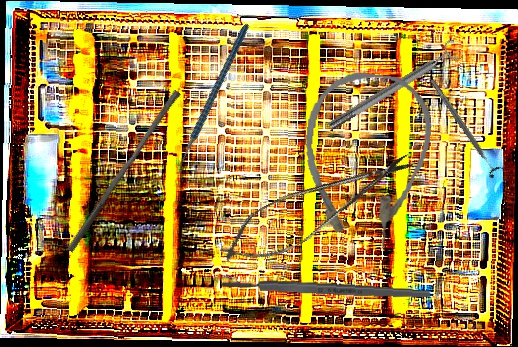Cannula: (294, 67, 437, 252)
Chopper: (134, 23, 293, 184)
Fixation Ring: (323, 38, 465, 136), (423, 73, 506, 181)
Micro Scissor: (208, 133, 425, 281)
Pusher: (66, 86, 182, 257)
Scalpel Handle: (219, 277, 433, 301)
